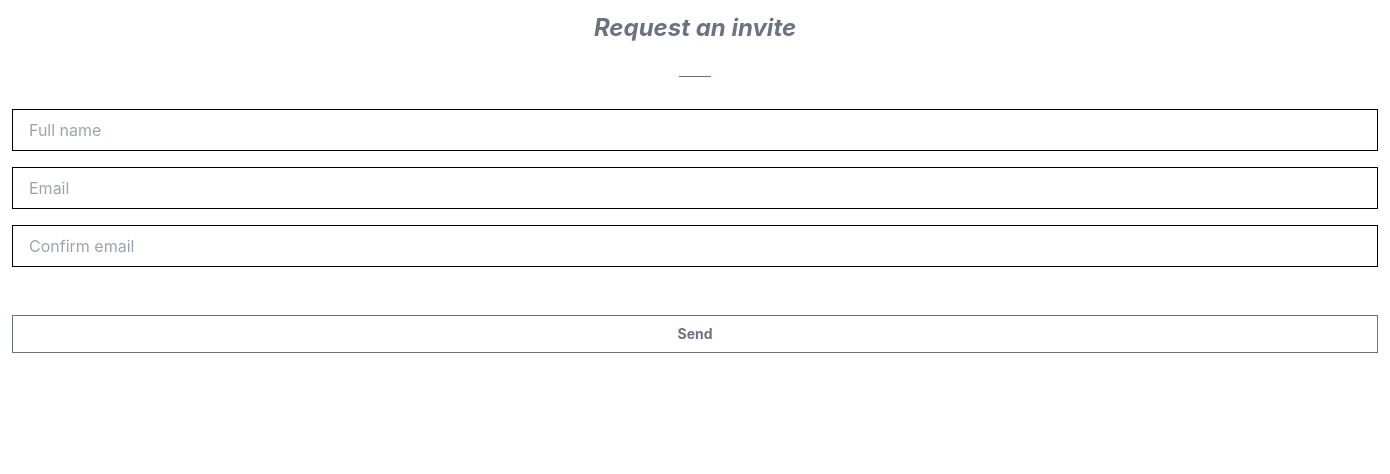
Scenario: <RequestStage /> › should handle validation error
This screenshot has width=1390, height=474.
Type "a" into the field with placeholder "Full name". click: (695,130)
box: [12, 109, 1378, 151]
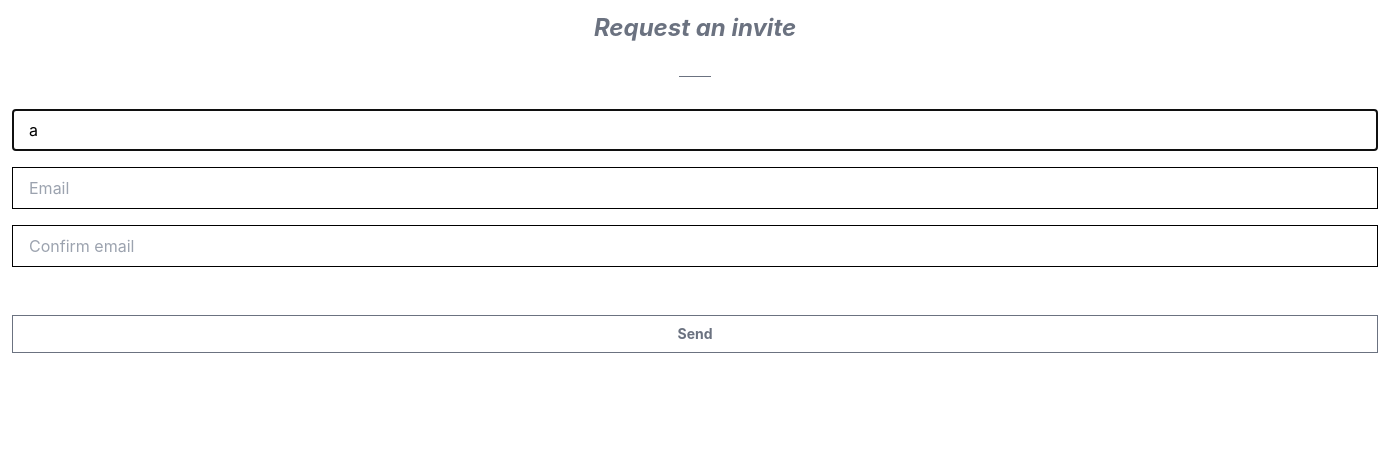
Type "a@a" into the field with placeholder "Email". click: (695,188)
box: [12, 167, 1378, 209]
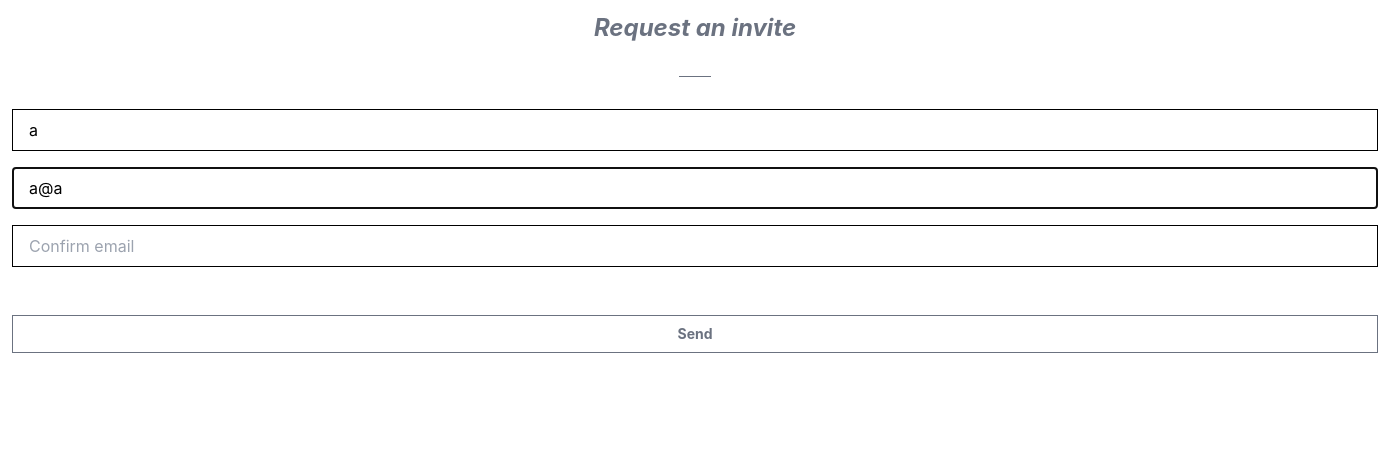
Type "b@a" into the field with placeholder "Confirm email". click: (695,246)
box: [12, 225, 1378, 267]
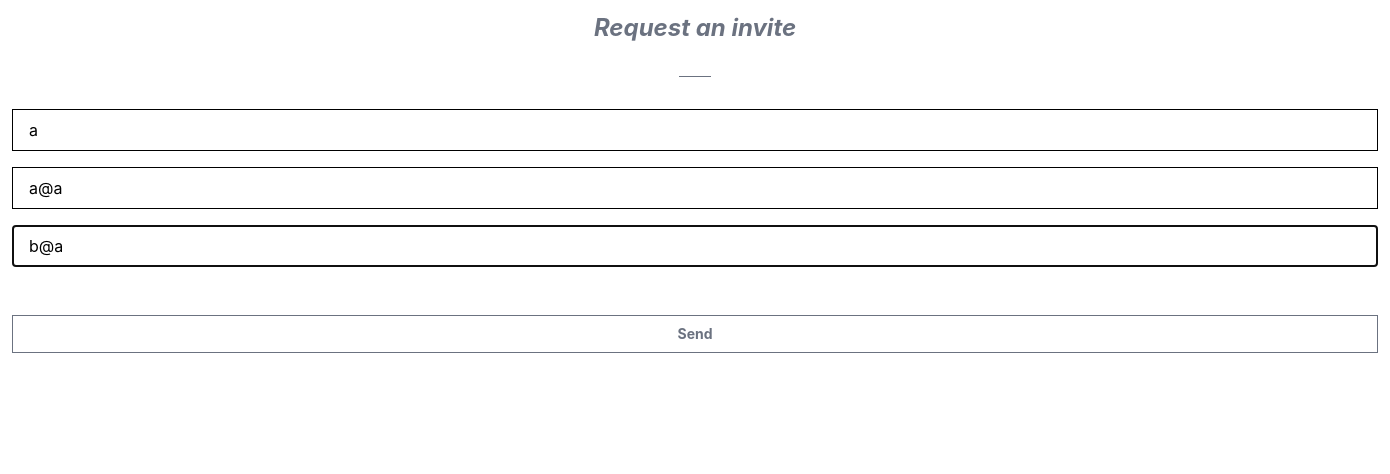
Click the button. click: (695,334)
box: [12, 315, 1378, 353]
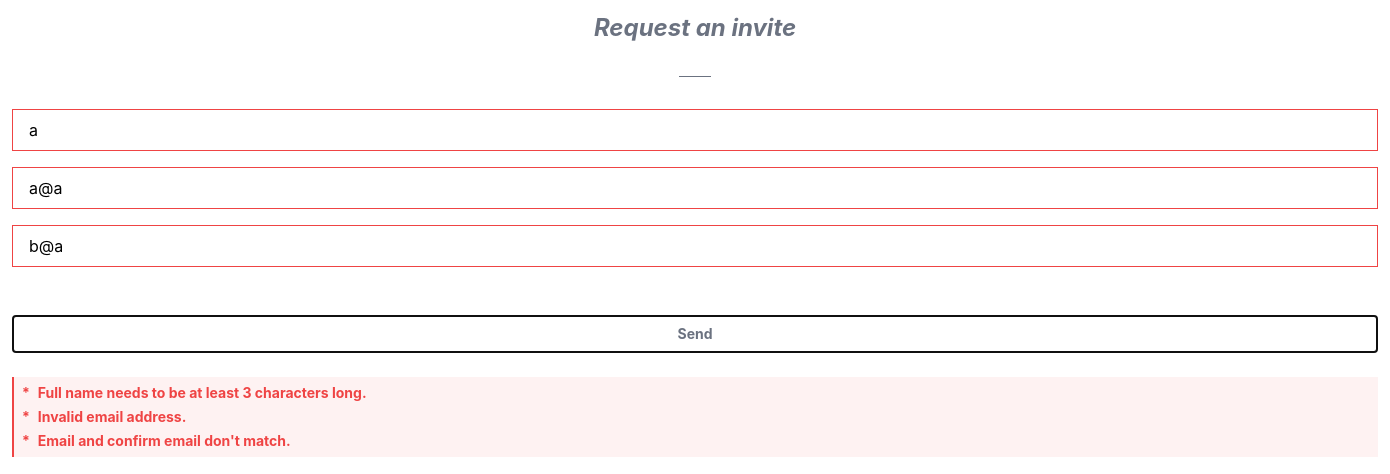
Check: the message shows "at least 3", box [38, 384, 367, 401]
Check: the message shows "Invalid email", box [38, 408, 186, 425]
Check: the message shows "email don't match", box [38, 432, 291, 449]
